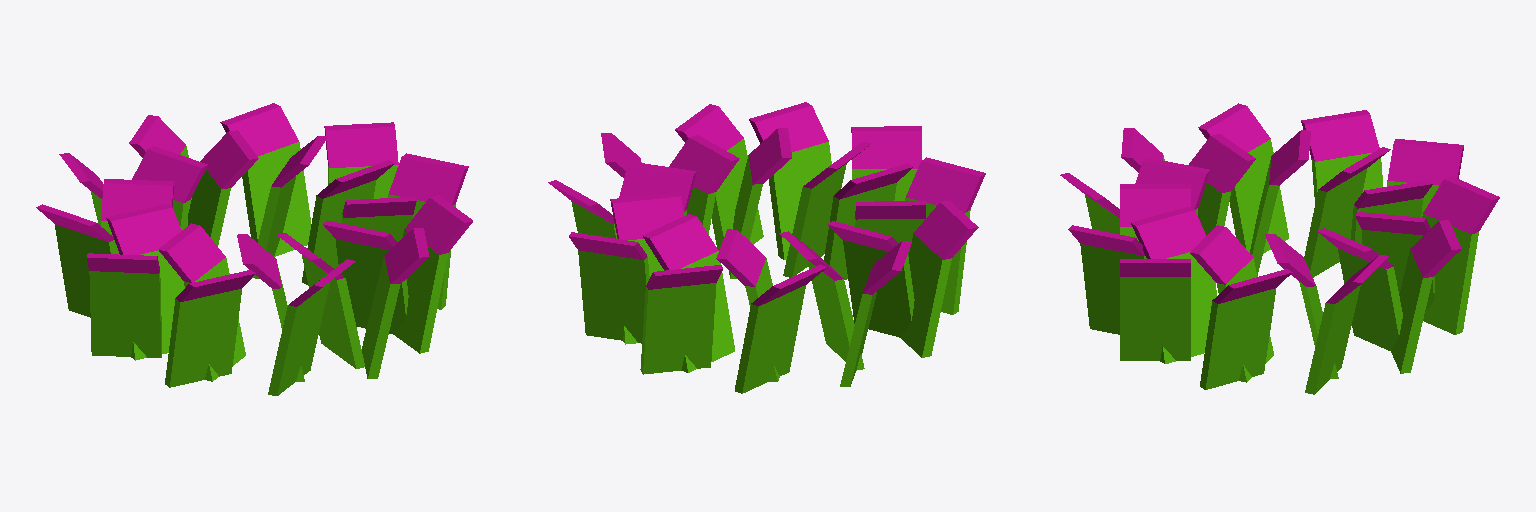
Rendered from plant5.obj.
The picture shows the model from 3 angles: view 1: azimuth 30°, elevation 25°; view 2: azimuth 150°, elevation 25°; view 3: azimuth 270°, elevation 25°; orthographic projection.
Parts seen in each view (by area): view 1: Plant_5_Cube.010; view 2: Plant_5_Cube.010; view 3: Plant_5_Cube.010.
Part boxes in pixels (x1,y1,x2,y2): Plant_5_Cube.010: (36, 103, 472, 395); Plant_5_Cube.010: (548, 102, 985, 393); Plant_5_Cube.010: (1060, 103, 1499, 394).
Size of the model in its own units: 1.08 by 0.3264 by 1.09.